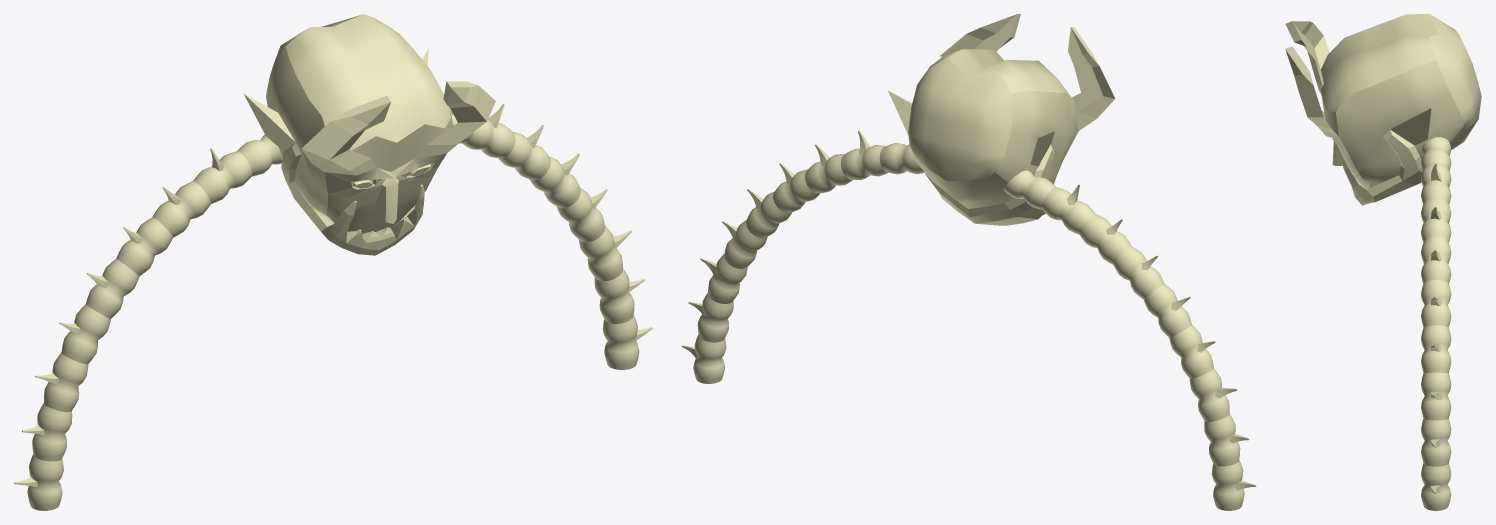
File: ARCO CABEZA GRANDE.fbx
3 renders of one model, left to right at view 1: azimuth 30°, elevation 25°; view 2: azimuth 150°, elevation 25°; view 3: azimuth 270°, elevation 25°, orthographic. The views are drawn at different scales.
Visible parts, largest first — view 1: ArcodeCabeza; view 2: ArcodeCabeza; view 3: ArcodeCabeza.
Boxes of the visible parts, x1,y1,x2,y2 form: ArcodeCabeza: [14, 14, 652, 510]; ArcodeCabeza: [681, 14, 1256, 510]; ArcodeCabeza: [1285, 14, 1481, 510].
Size of the model in its own units: 11.83 by 7.4 by 3.66.
